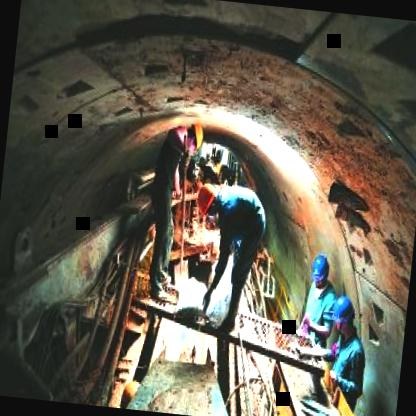helmet: (327, 294, 358, 344), (307, 248, 336, 292), (194, 180, 226, 218), (180, 119, 206, 154)
